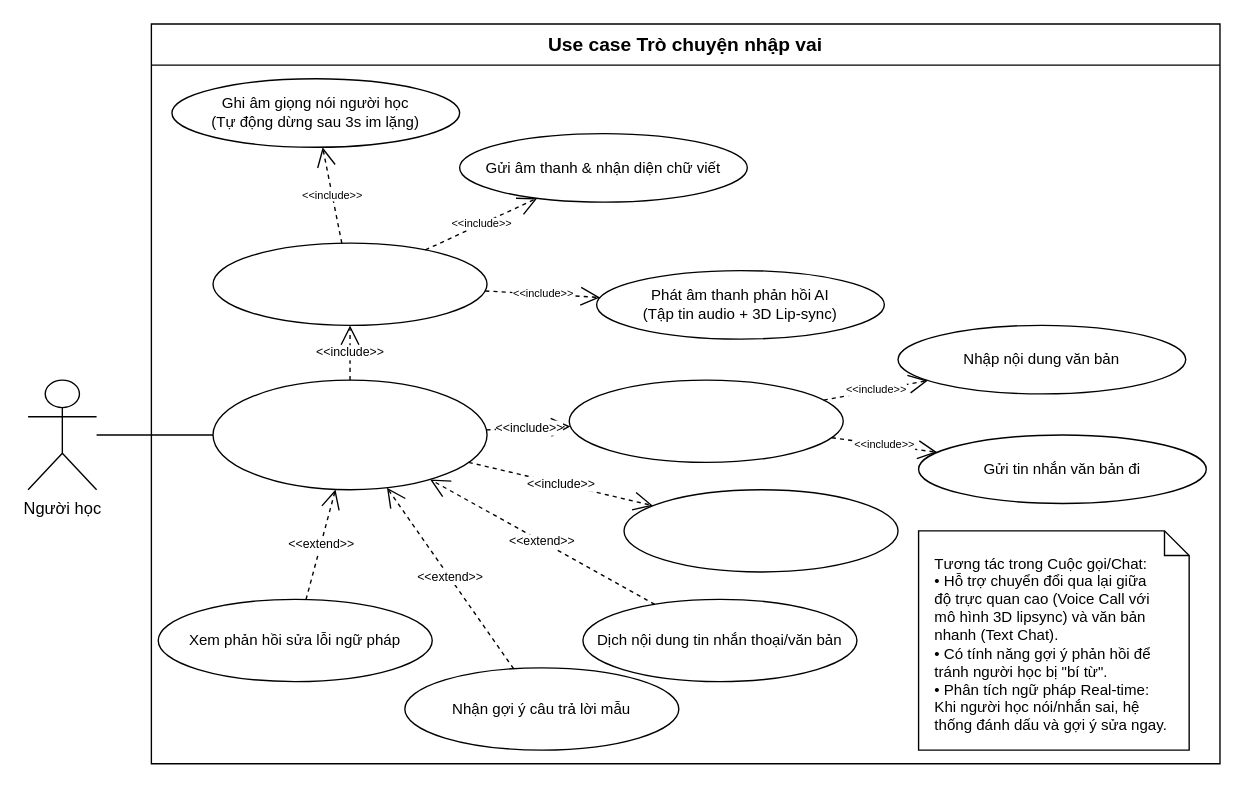
The diagram is 1244 pixels wide and 788 high, and some of its shapes have lost their labels. Here are the shapes that lost their labels. From the top down, the box of each, then its label:
(212, 242, 487, 325): Trò chuyện bằng Giọng nói (Voice Call UI)
(212, 379, 487, 490): Thực hiện cuộc trò chuyện
(568, 379, 843, 462): Trò chuyện bằng Văn bản
(623, 488, 898, 572): Xem danh sách nhiệm vụ cần đạt
